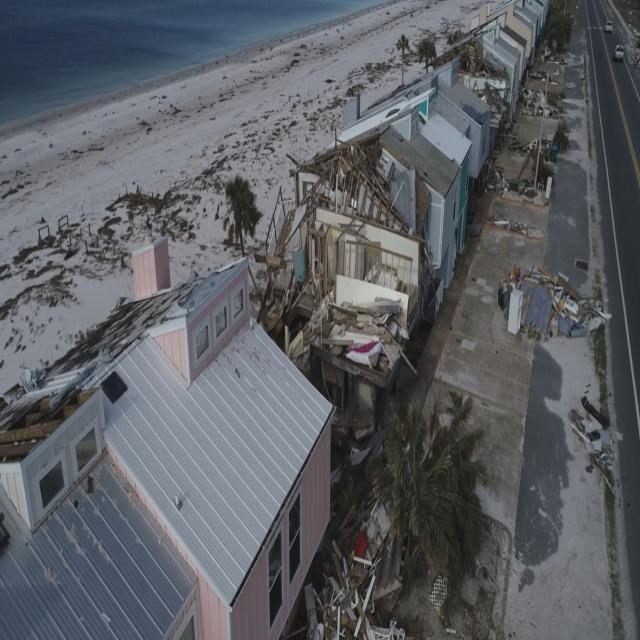flood: (0, 0, 386, 124)
house: (100, 253, 339, 596), (394, 76, 495, 293), (0, 380, 109, 543), (482, 22, 536, 100)
